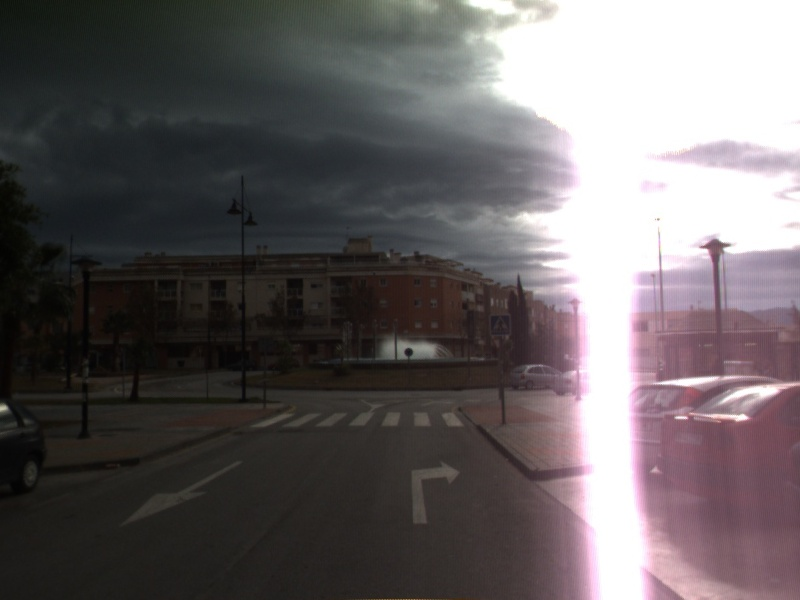RIGHT: (409, 458, 462, 526)
